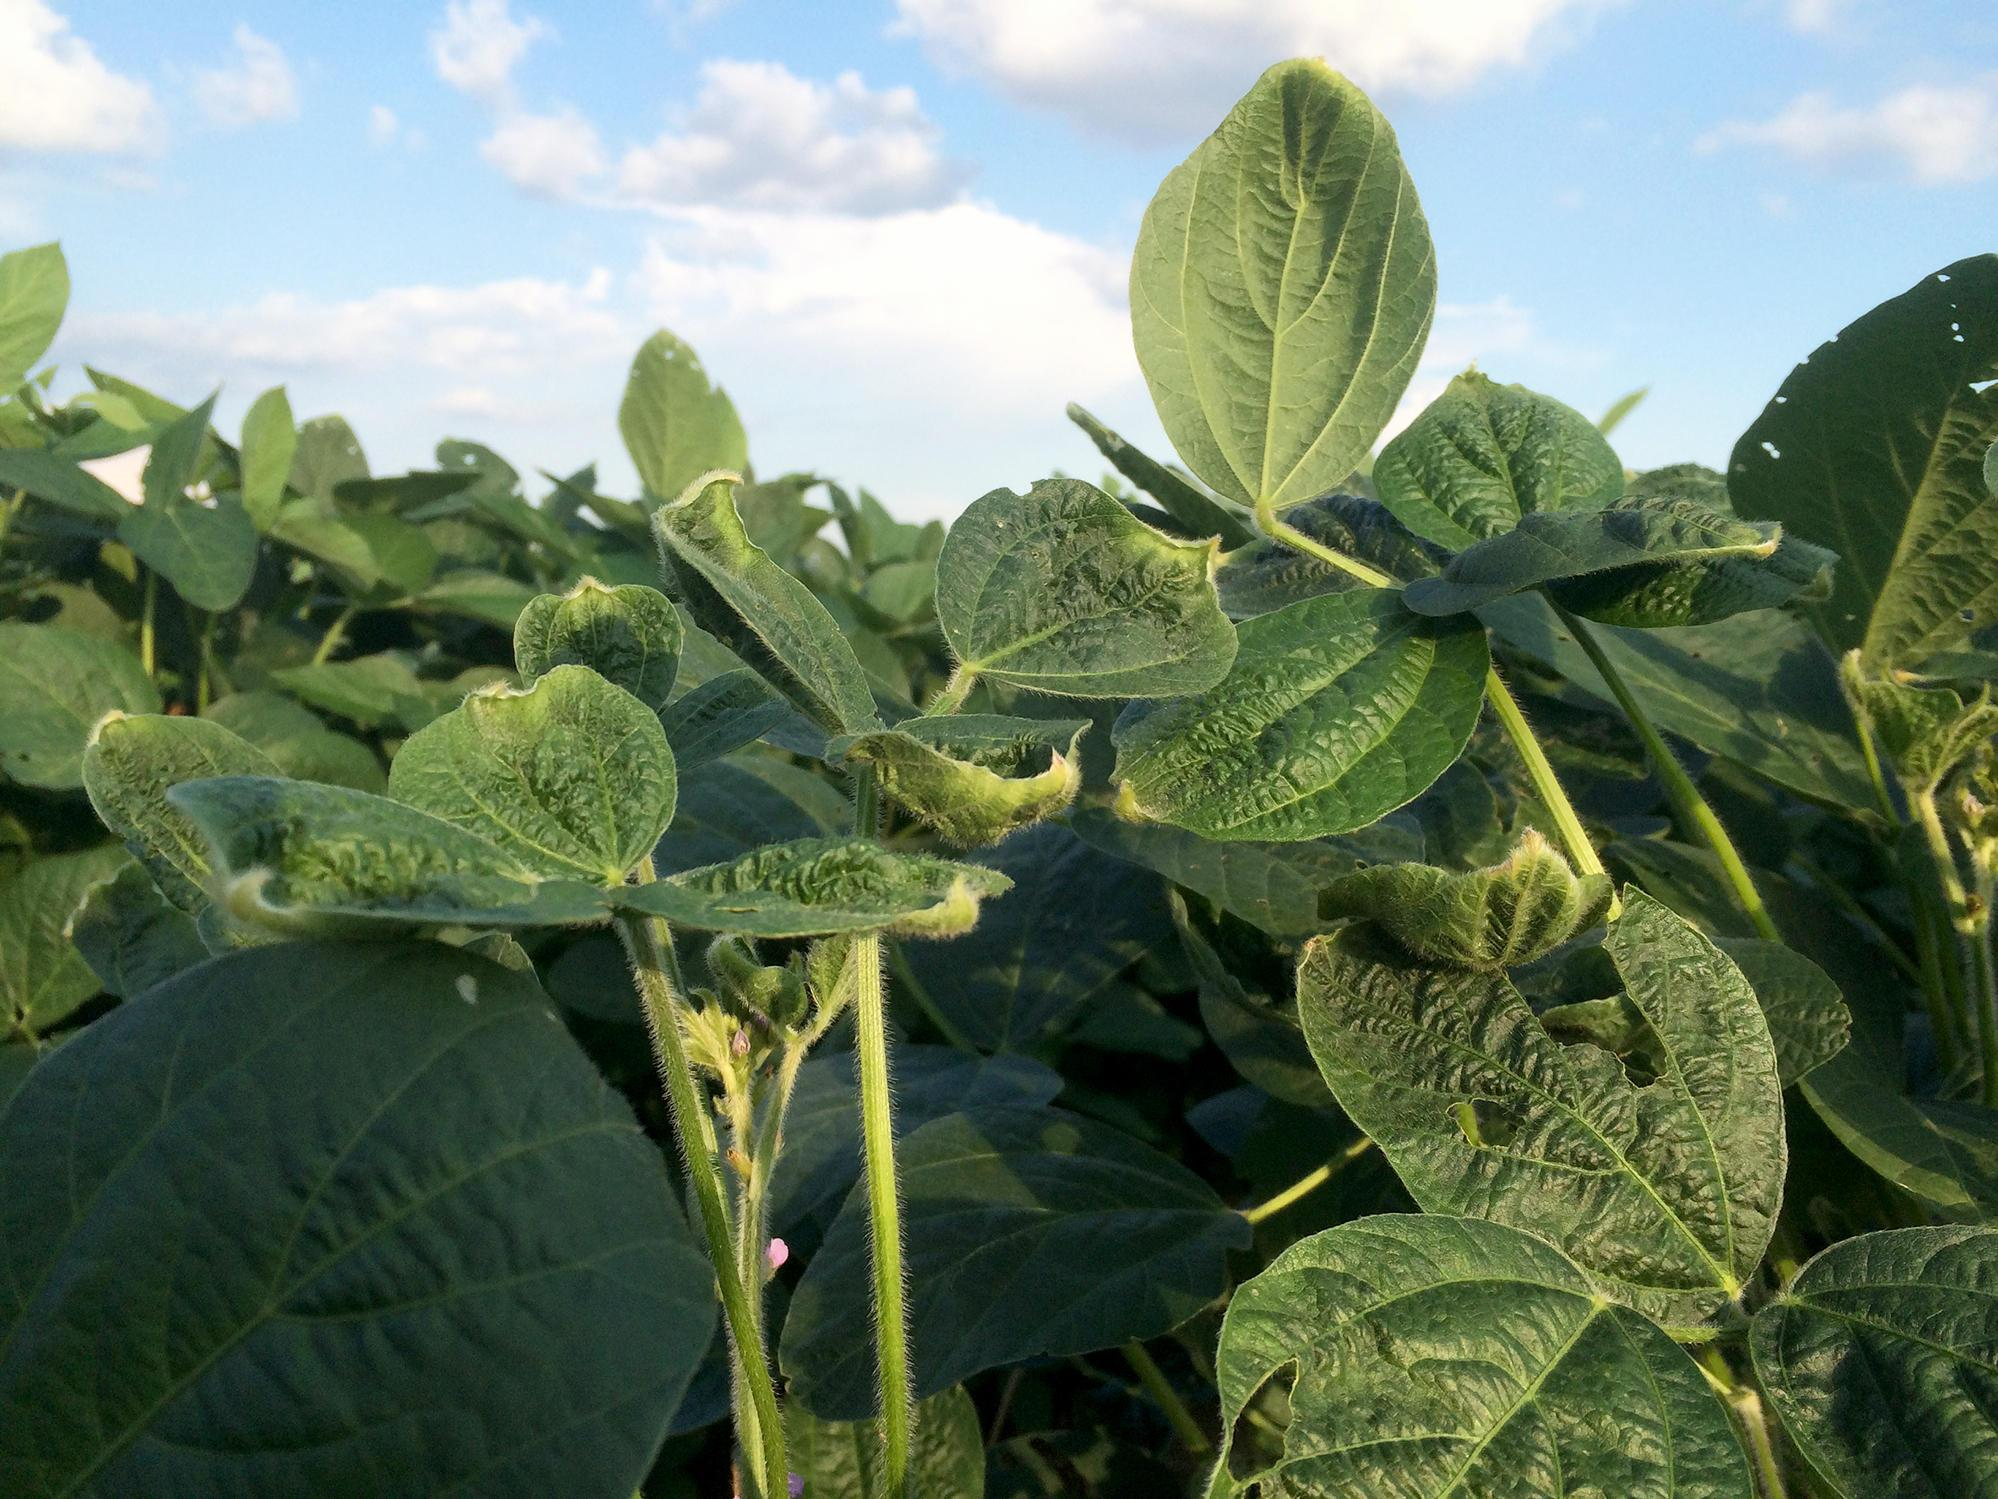Soyabean leaf: (1127, 50, 1441, 534)
